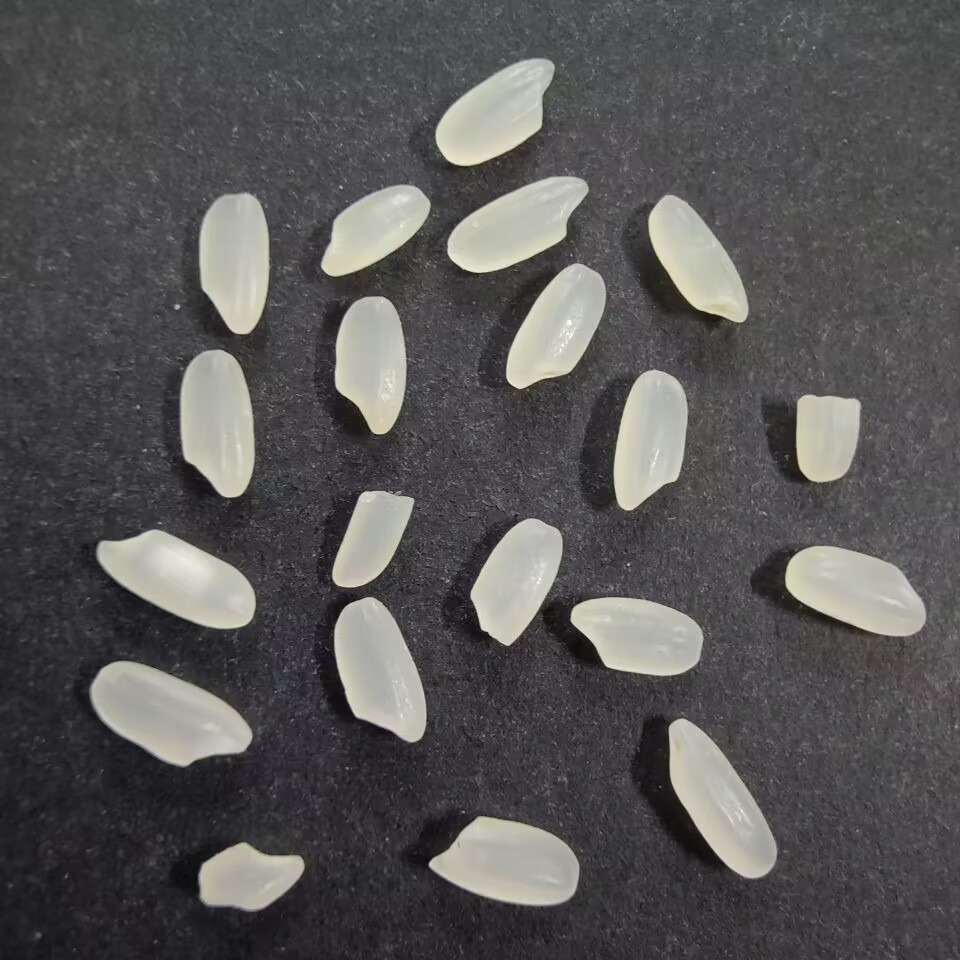broken: (470, 515, 567, 648), (192, 837, 308, 922), (326, 485, 417, 592), (788, 386, 865, 488)
rice: (665, 717, 780, 883), (89, 655, 256, 769), (93, 529, 258, 634), (422, 812, 583, 909), (330, 595, 432, 747), (444, 174, 591, 275), (431, 56, 559, 170), (645, 191, 750, 326), (500, 262, 608, 393), (784, 544, 928, 638), (176, 344, 260, 502), (611, 367, 693, 515), (329, 294, 410, 440), (196, 188, 273, 337), (565, 594, 705, 675), (318, 183, 432, 282)
